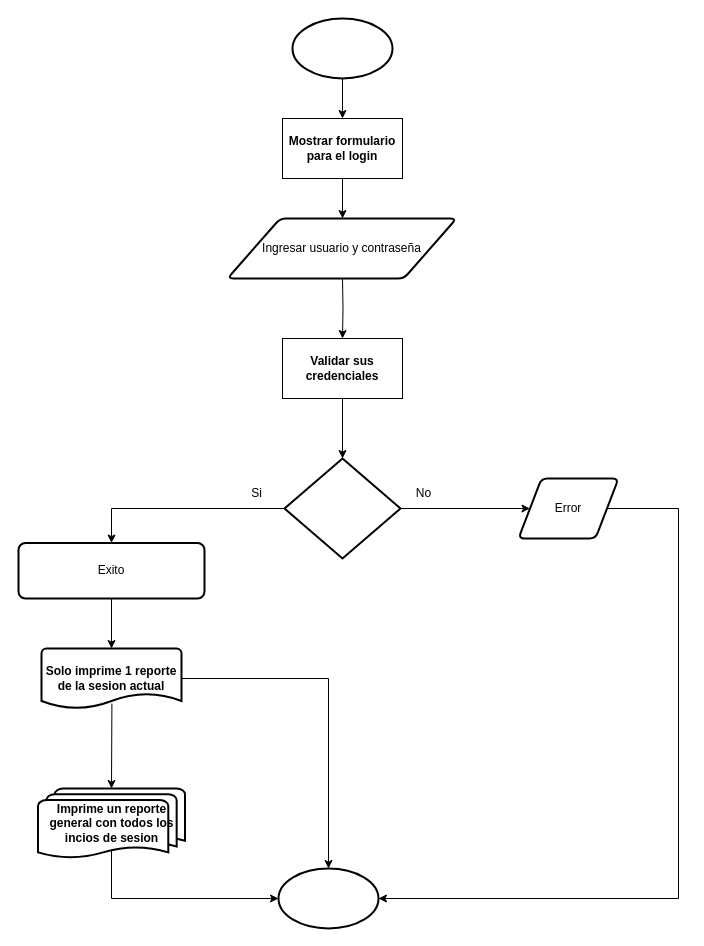
The diagram is 704 pixels wide and 946 high, and some of its shapes have lost their labels. The centre of each missing label's shape, as x and y in pixels:
Fin: the point at 328,898
Inicio: the point at 342,48
Los datos de inicio son correctos: the point at 342,508
